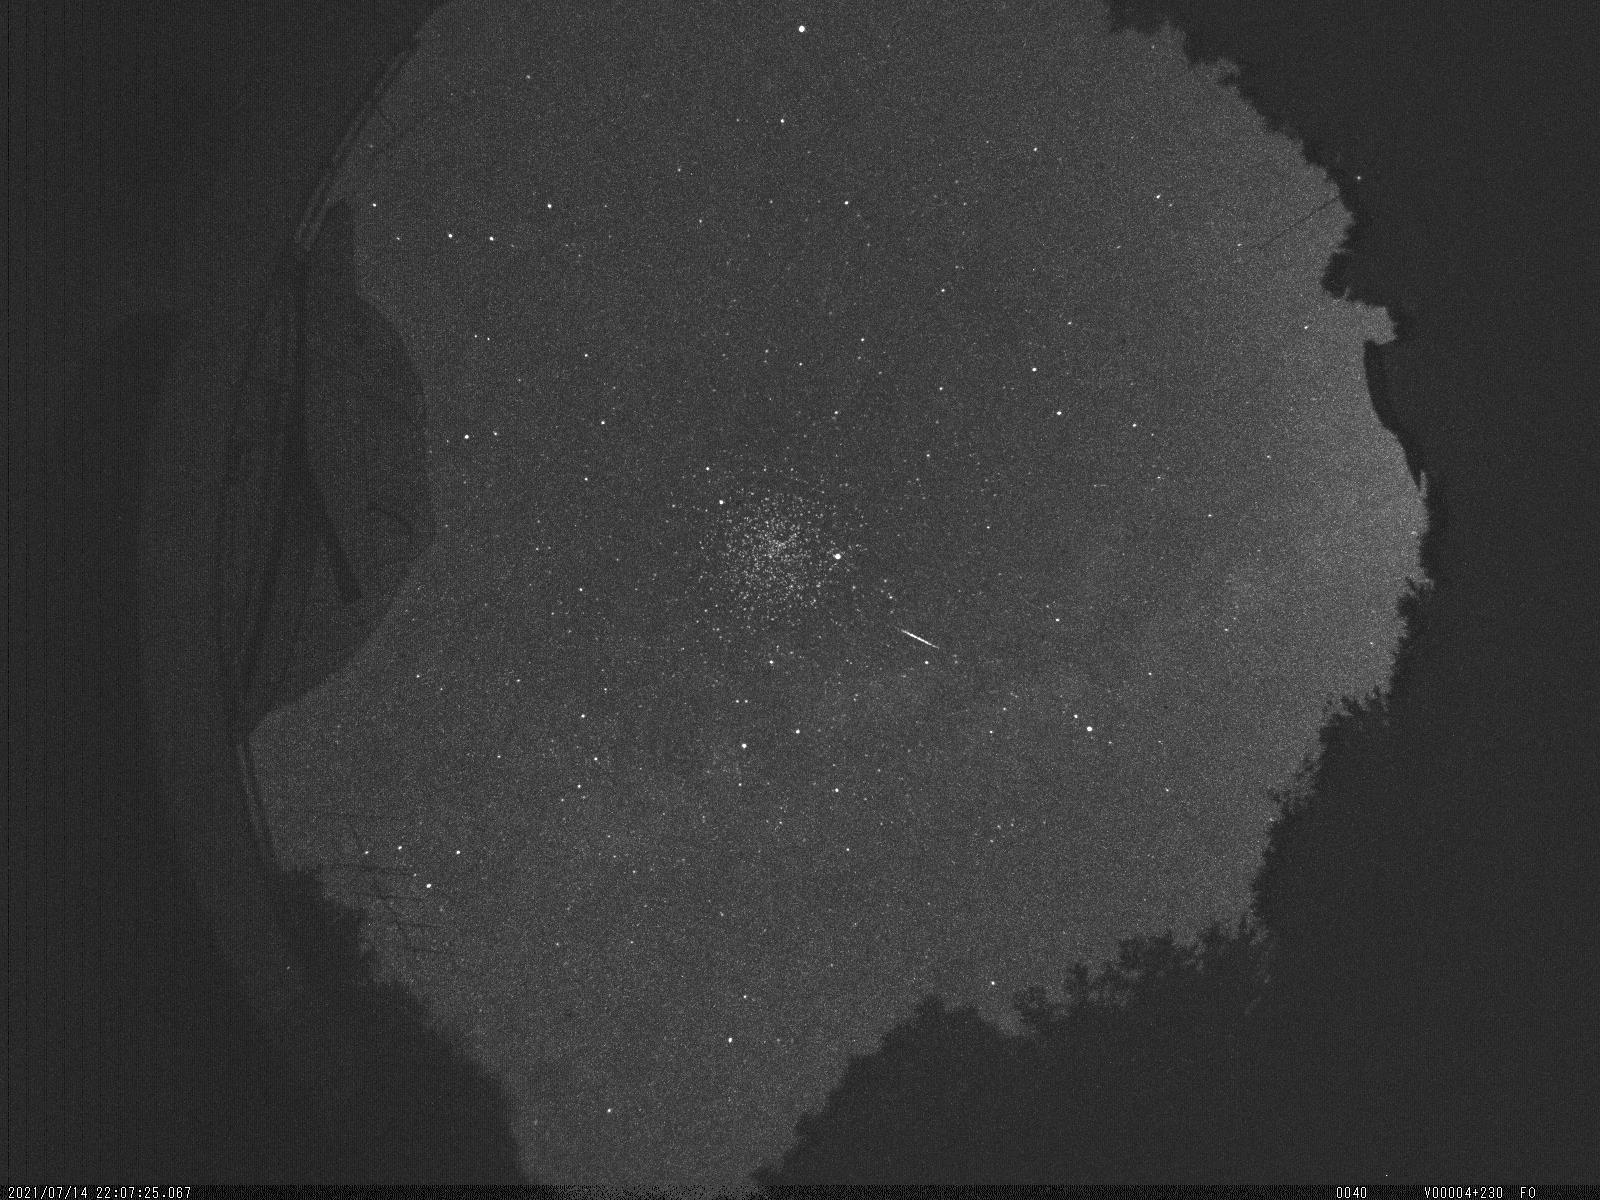Meteor: (891, 621, 947, 657)
